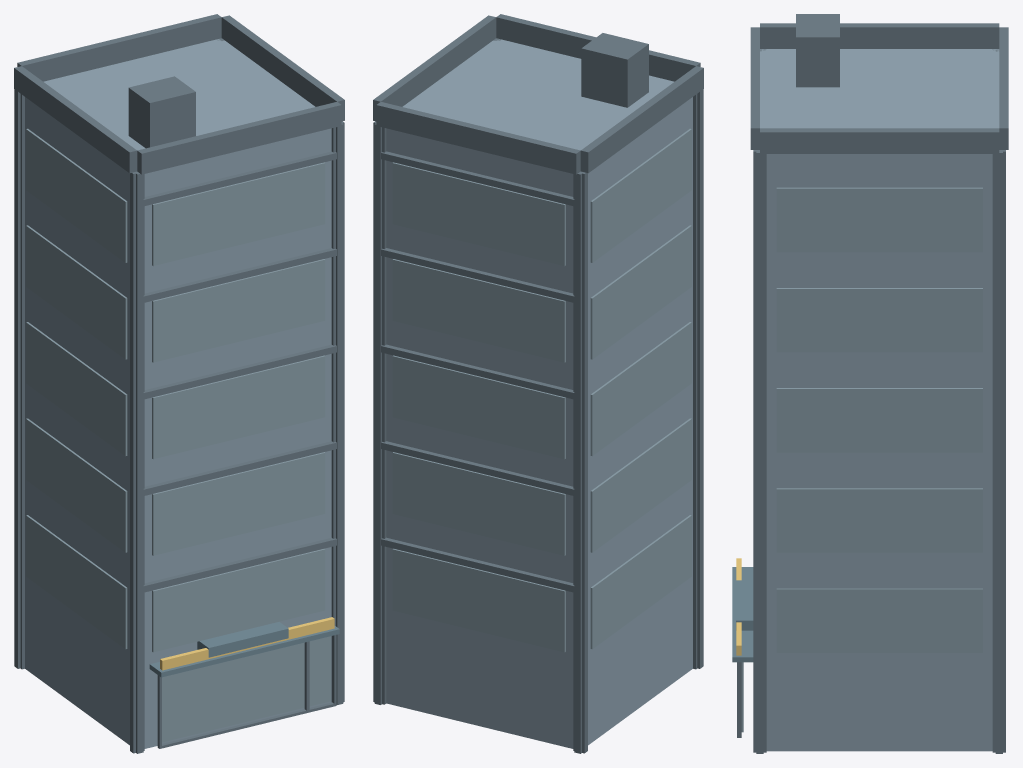
Rendered from commercial_1x1_b.glb.
3 renders of one model, left to right at view 1: azimuth 30°, elevation 25°; view 2: azimuth 150°, elevation 25°; view 3: azimuth 270°, elevation 25°, orthographic. The views are drawn at different scales.
Visible parts, largest first — view 1: commercial_1x1_b_0; view 2: commercial_1x1_b_0; view 3: commercial_1x1_b_0.
Part boxes in pixels (x1,y1,x2,y2): commercial_1x1_b_0: (14, 14, 344, 753); commercial_1x1_b_0: (373, 14, 703, 753); commercial_1x1_b_0: (732, 14, 1008, 753).
Bounding box in the file's own units: 7 × 19.5 × 7.5.
